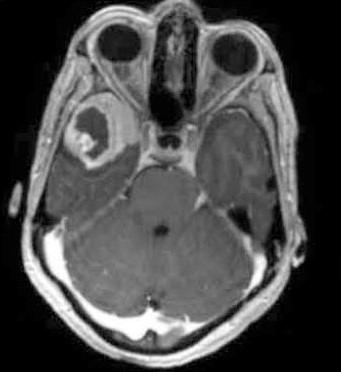Tumour-Meningioma: (60, 85, 125, 199)
